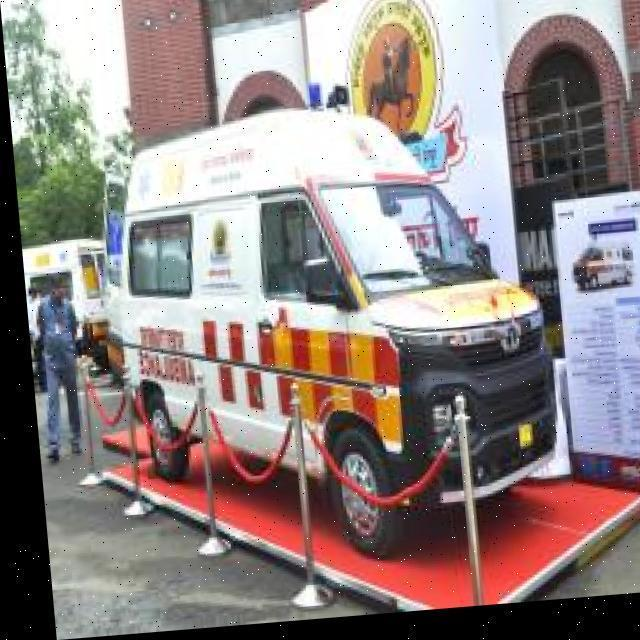Ambulance: (77, 85, 560, 583), (25, 315, 640, 637), (17, 232, 114, 394), (20, 272, 90, 466), (558, 250, 630, 304)
